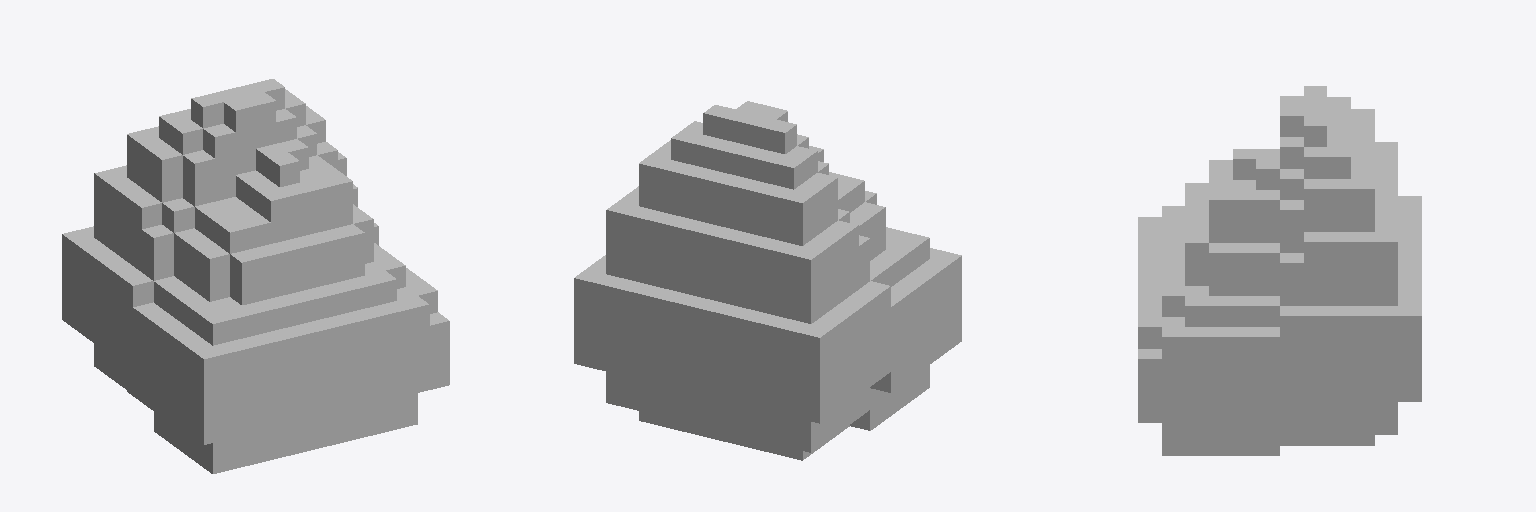
File: egg_voxel2.obj
3 renders of one model, left to right at view 1: azimuth 30°, elevation 25°; view 2: azimuth 150°, elevation 25°; view 3: azimuth 270°, elevation 25°, orthographic.
Visible parts, largest first — view 1: egg_smashed; view 2: egg_smashed; view 3: egg_smashed.
Boxes of the visible parts, x1,y1,x2,y2 form: egg_smashed: [62, 79, 449, 473]; egg_smashed: [574, 101, 961, 460]; egg_smashed: [1138, 86, 1421, 455].
Bounding box in the file's own units: 0.75 × 0.875 × 0.75.